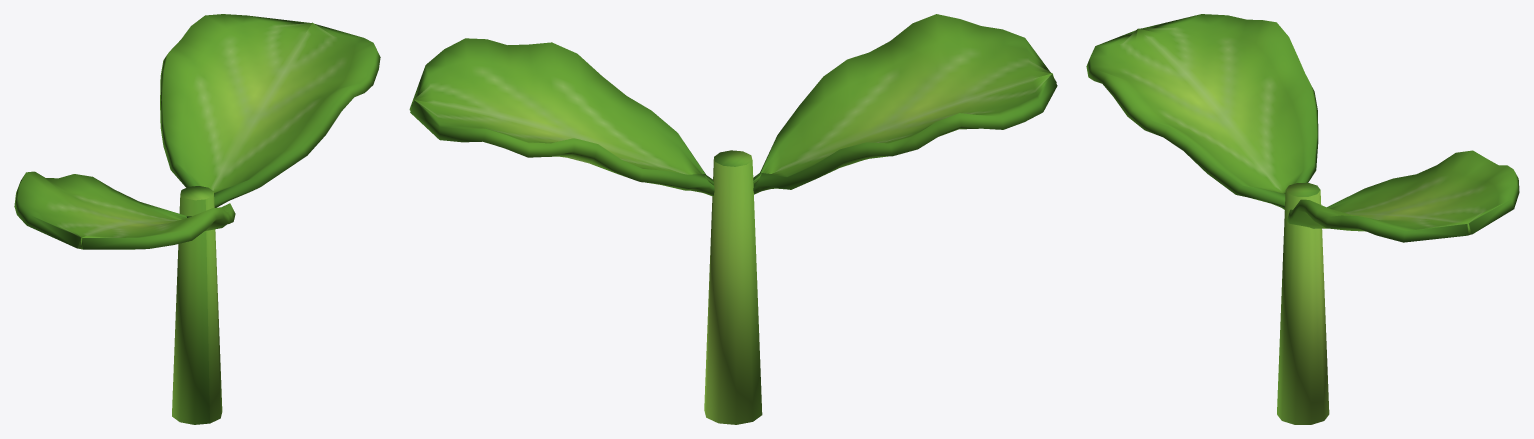
The model's file is NP_Shared_Sprout.fbx.
The picture shows the model from 3 angles, left to right: view 1: azimuth 30°, elevation 25°; view 2: azimuth 150°, elevation 25°; view 3: azimuth 270°, elevation 25°; orthographic projection. The views are drawn at different scales.
Visible parts, largest first — view 1: NP_Shared_Sprout; view 2: NP_Shared_Sprout; view 3: NP_Shared_Sprout.
Boxes of the visible parts, <box> form: NP_Shared_Sprout: <box>14,14,380,424</box>; NP_Shared_Sprout: <box>409,14,1057,424</box>; NP_Shared_Sprout: <box>1086,14,1519,424</box>.
Bounding box in the file's own units: 17.69 × 11.39 × 14.86.
